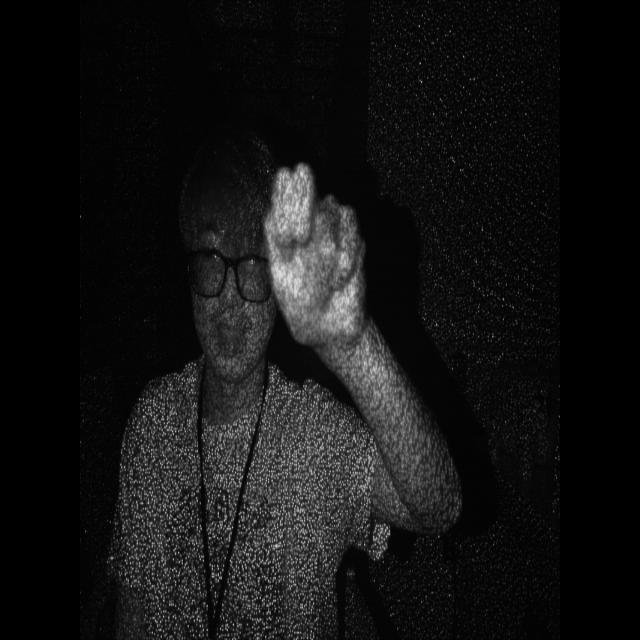N: (255, 148, 383, 386)
